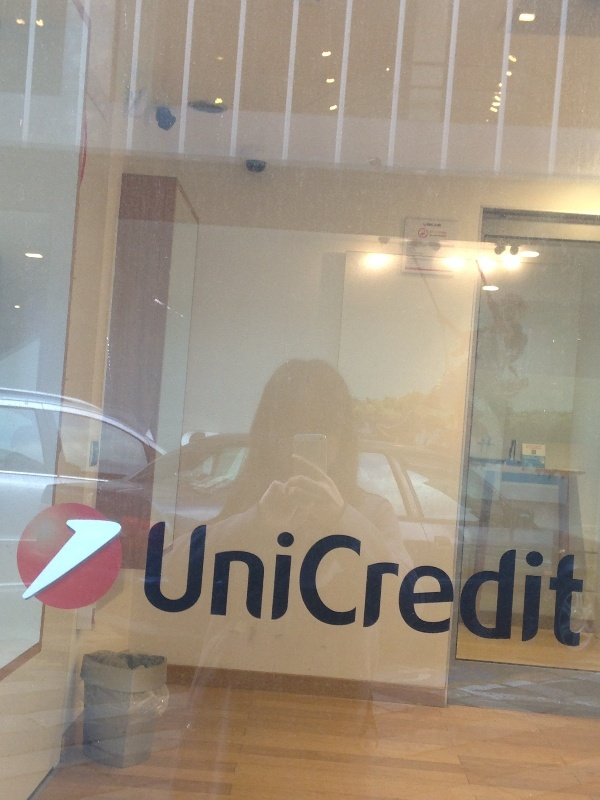text: (161, 517, 176, 653), (177, 517, 192, 653), (193, 517, 208, 653), (209, 517, 224, 653), (225, 517, 240, 653), (241, 517, 256, 653), (257, 517, 272, 653), (273, 517, 288, 653), (289, 517, 304, 653), (305, 517, 320, 653), (321, 517, 336, 653), (337, 517, 352, 653), (353, 517, 368, 653), (369, 517, 384, 653), (385, 517, 400, 653), (401, 517, 416, 653), (417, 517, 432, 653), (433, 517, 448, 653), (449, 517, 464, 653), (465, 517, 480, 653), (481, 517, 496, 653), (497, 517, 512, 653), (513, 517, 528, 653), (529, 517, 544, 653), (545, 517, 560, 653), (561, 517, 576, 653), (149, 517, 160, 653), (577, 517, 587, 653)
